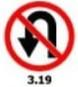road_sign: (3, 0, 76, 73)
